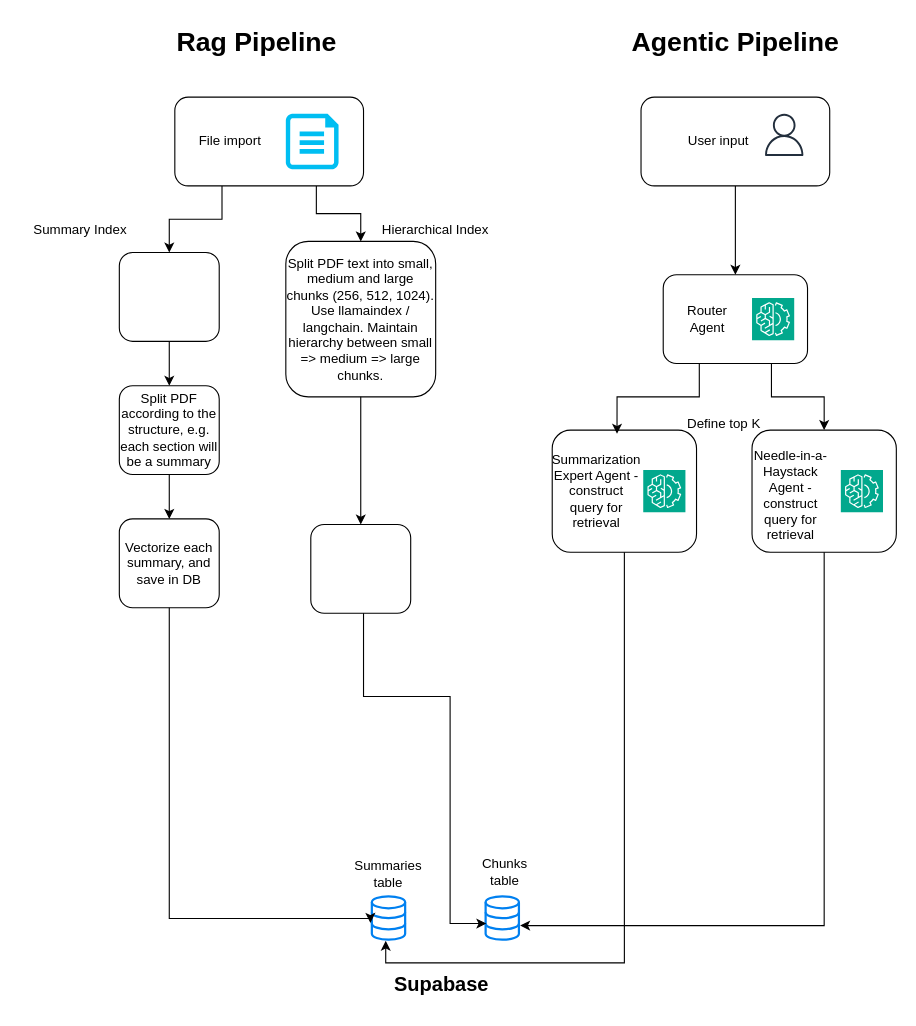
Some shapes in this 916 by 1026 pixel diagram are drawn without their labels. Here are the shapes that lost their labels. From the top down, the centre of each, then its label:
At pixel 168 296: "LLM call that identifies the PDF strucutre".
At pixel 360 568: "Vectorize each chunk, and save in DB".
